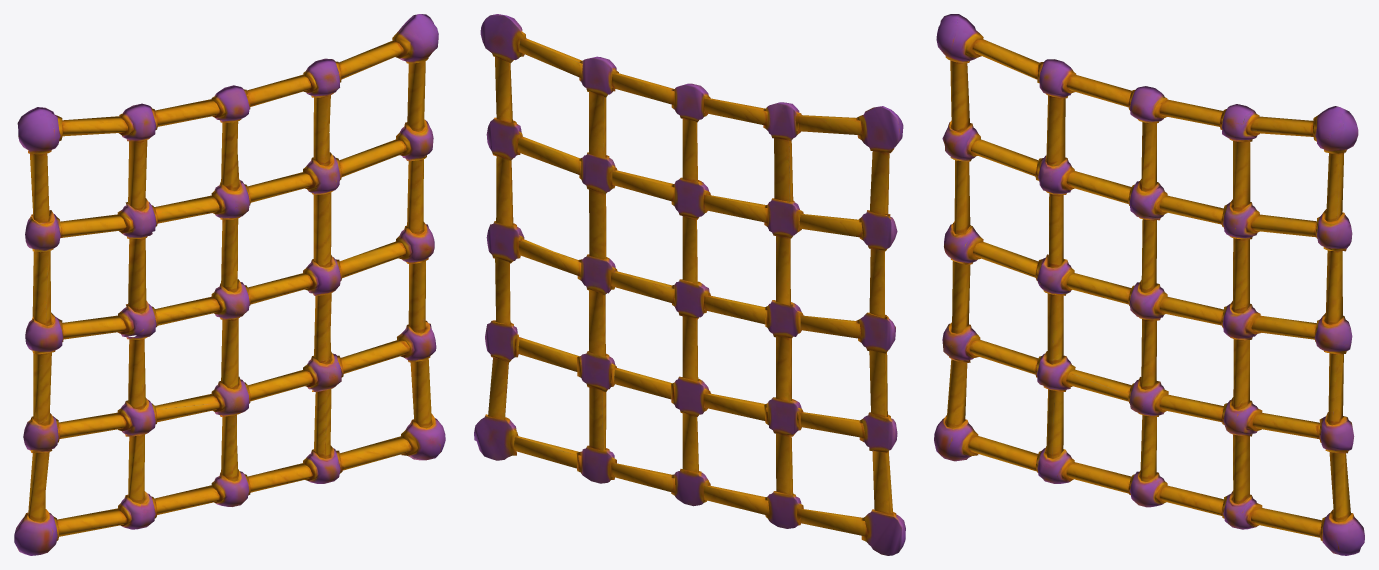
Rendered from climbing_net.glb.
3 views of the same model, side by side, from view 1: azimuth 30°, elevation 25°; view 2: azimuth 150°, elevation 25°; view 3: azimuth 330°, elevation 25° (orthographic).
Size of what is drawn, in the model's own units: 1 by 1 by 0.054.
Materials: 1 (1 with a texture image).
